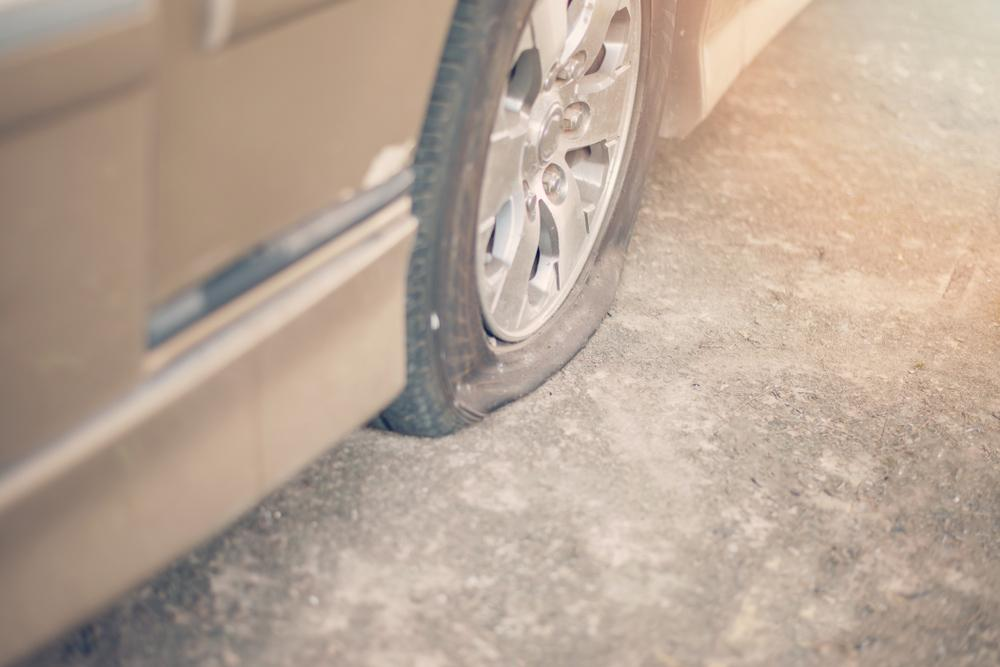tire flat: (366, 0, 680, 435)
